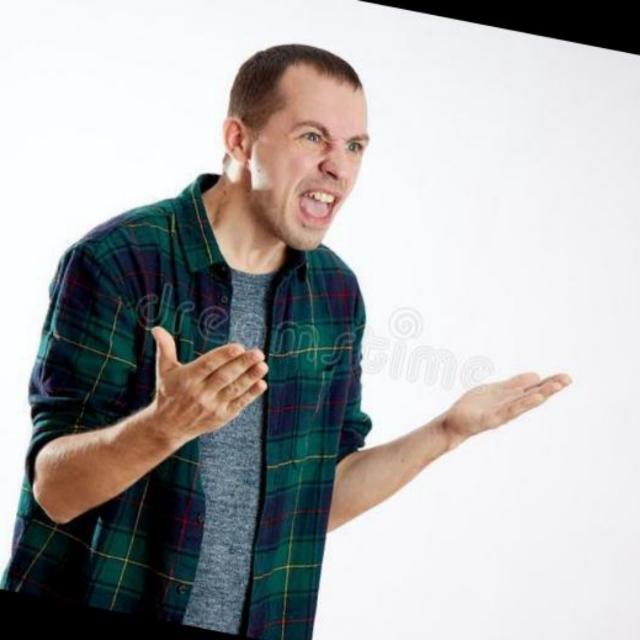Angry: (215, 27, 377, 275)
